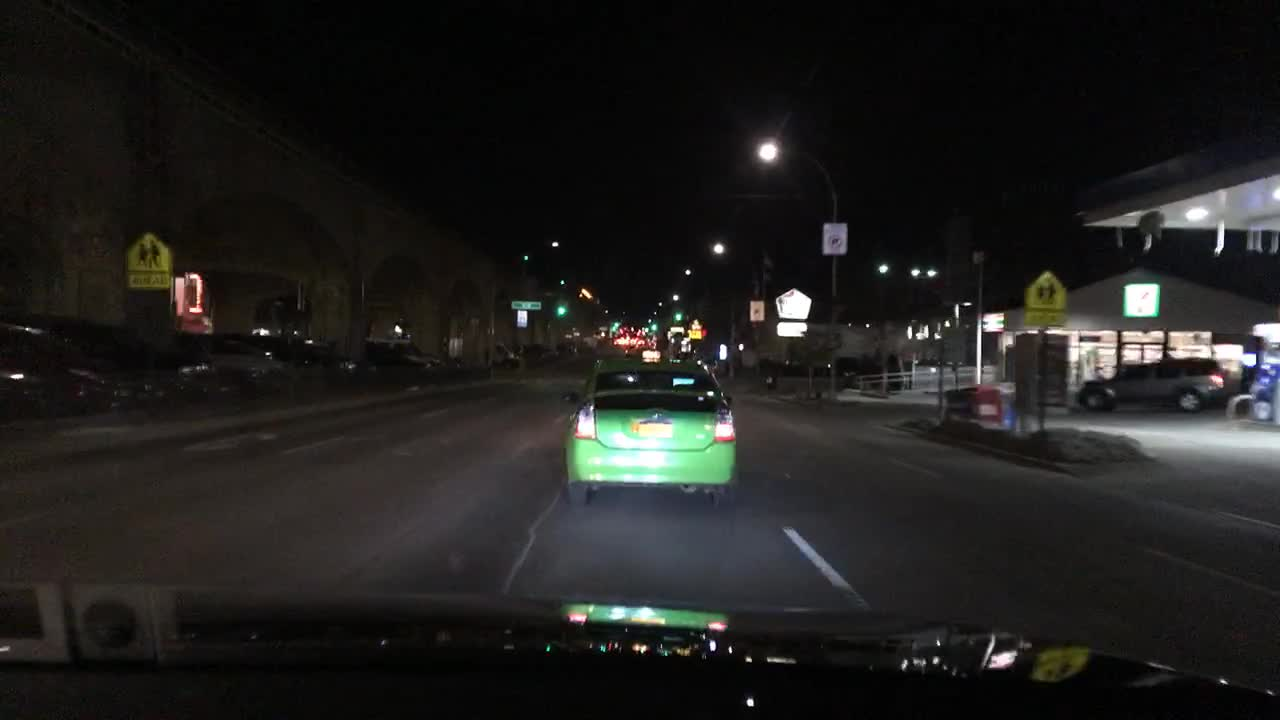car: (561, 354, 739, 509), (0, 312, 187, 404), (1076, 355, 1233, 414), (185, 335, 297, 392), (297, 342, 371, 383), (371, 338, 433, 381), (1250, 361, 1277, 421), (612, 325, 646, 349), (490, 340, 521, 366)
traffic light: (606, 315, 620, 329), (554, 303, 567, 318), (671, 311, 683, 321), (651, 317, 657, 329)
traffic sign: (122, 233, 174, 296), (1023, 268, 1071, 320), (772, 286, 811, 317), (822, 223, 853, 258), (775, 320, 805, 335), (511, 298, 539, 312), (749, 300, 764, 325)
